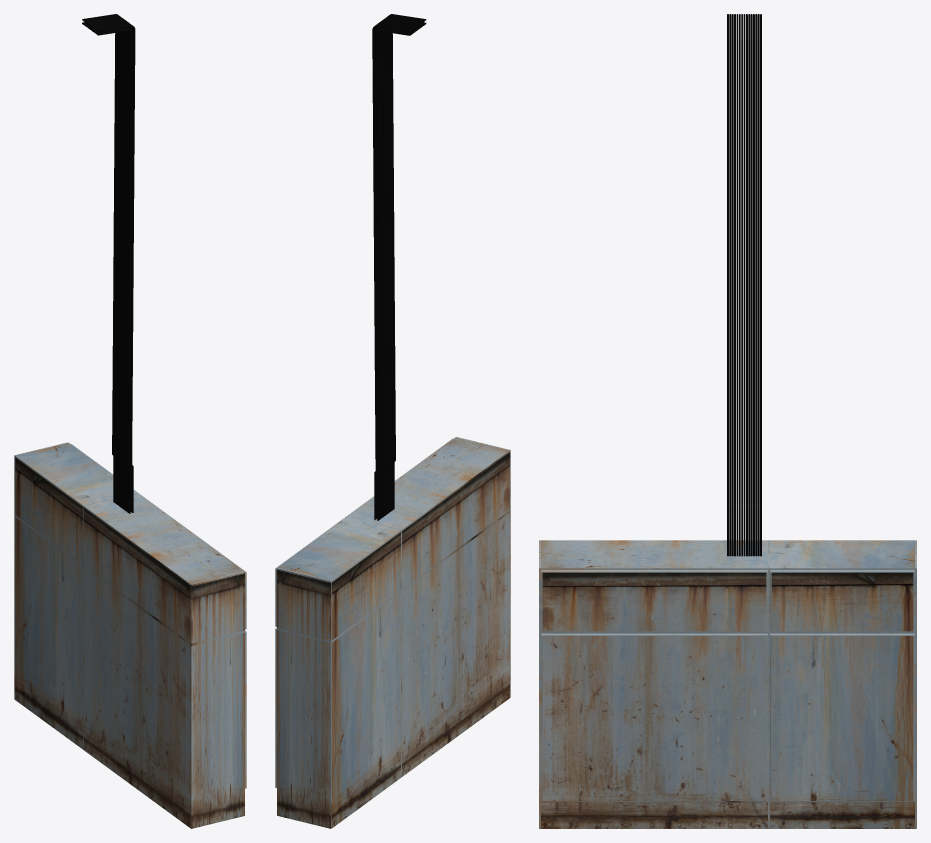
The model's file is plantaEnergia.obj.
The picture shows the model from 3 angles, left to right: view 1: azimuth 30°, elevation 25°; view 2: azimuth 150°, elevation 25°; view 3: azimuth 270°, elevation 25°; orthographic projection. The views are drawn at different scales.
Visible parts, largest first — view 1: plantaEnergia; view 2: plantaEnergia; view 3: plantaEnergia.
Boxes of the visible parts, x1,y1,x2,y2 form: plantaEnergia: (14,14,246,828); plantaEnergia: (275,14,510,828); plantaEnergia: (539,14,916,828).
Size of the model in its own units: 3.52 by 40.25 by 17.57.
Materials: 2 (1 with a texture image).
